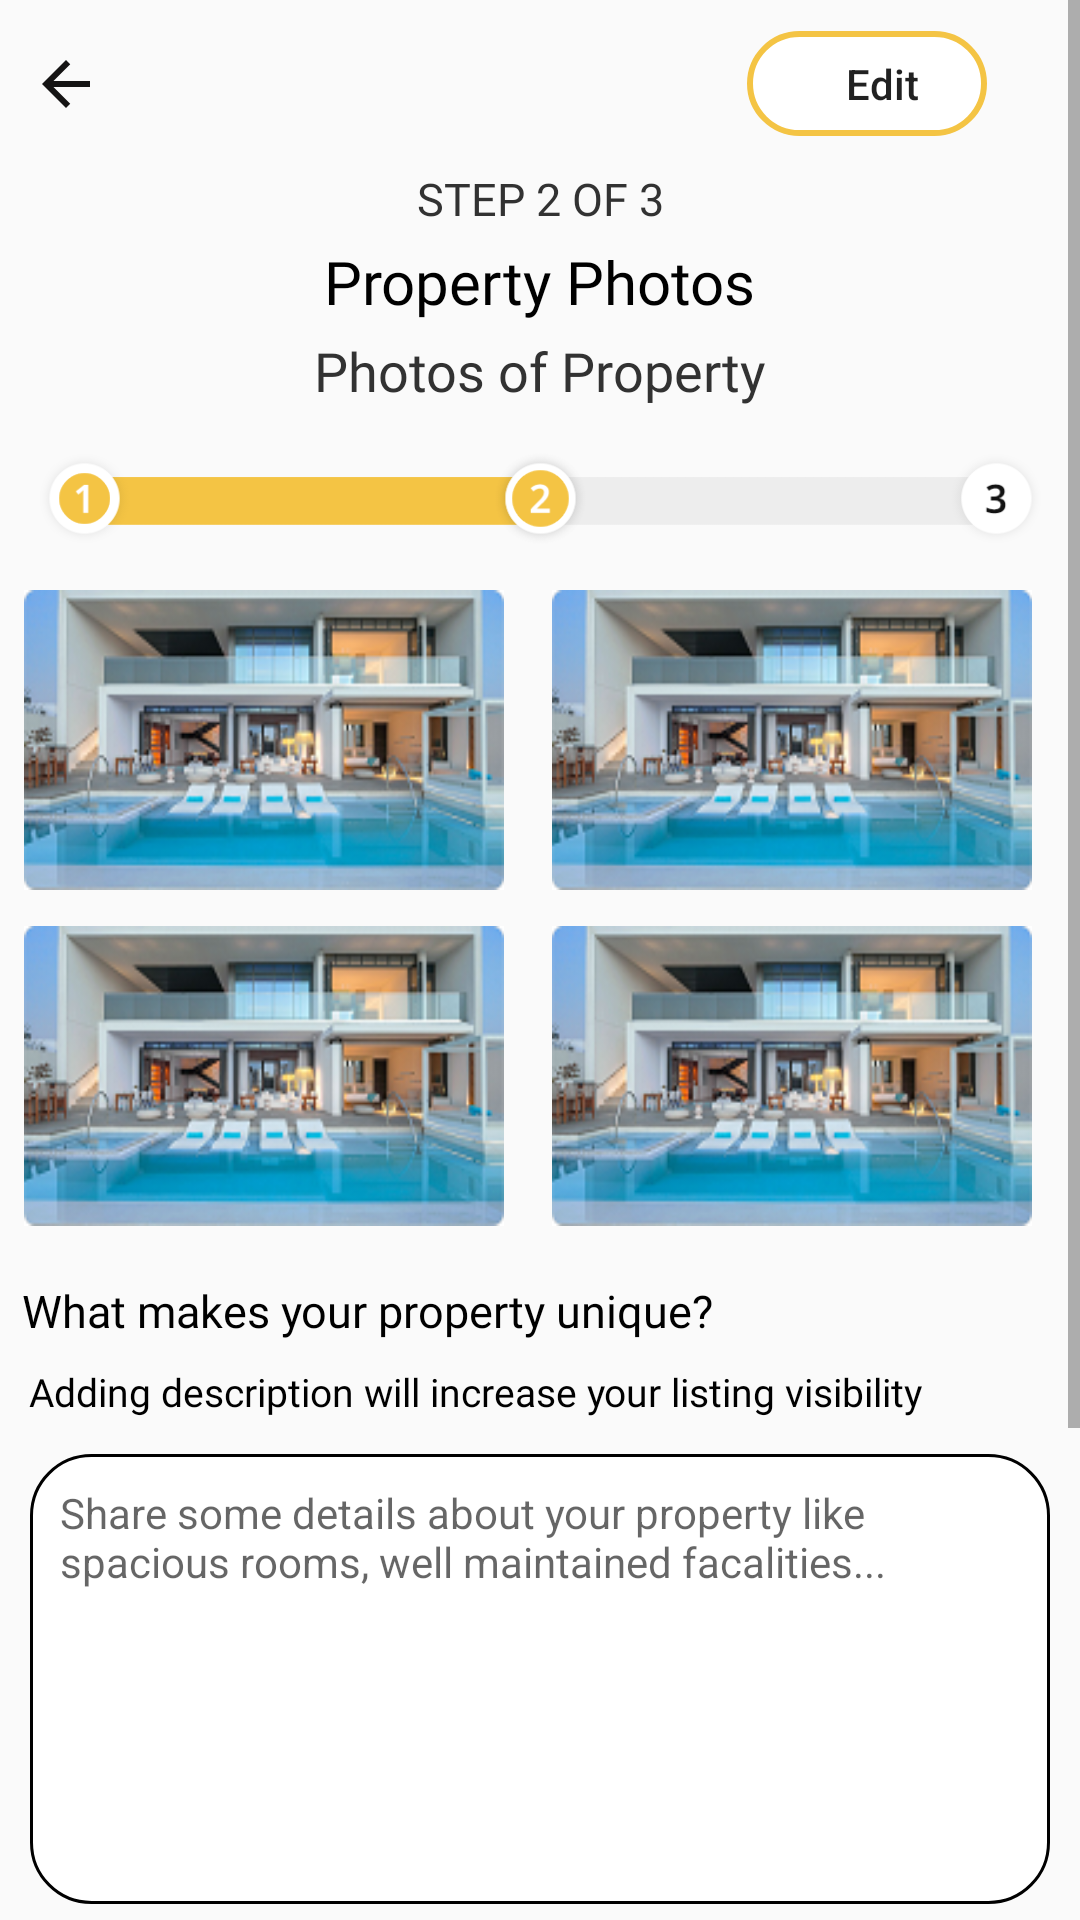

Icons on this 1080×1920 Android screen, each with the point to tap as point (x, y):
back arrow: point (66, 84)
